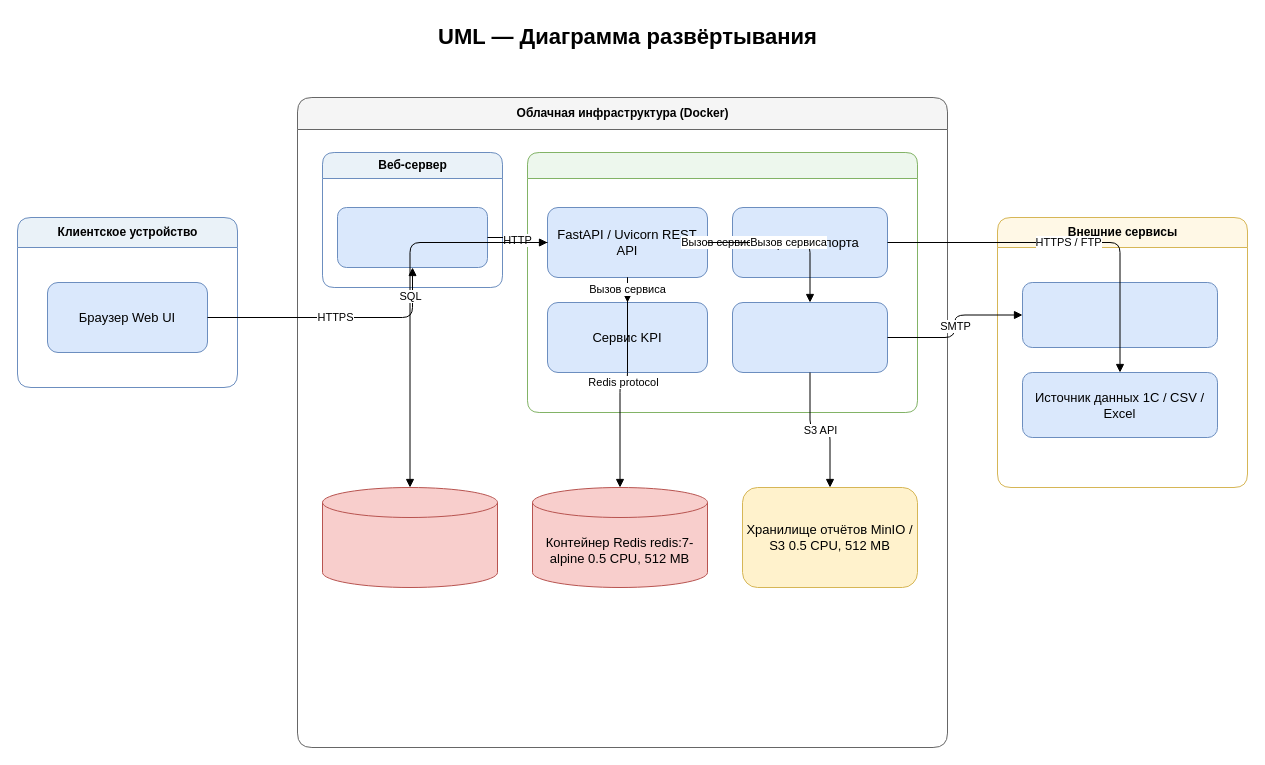
Image size: 1265x765. Some labels were removed from this diagram. The shapes that lost their labels are listed below. From the top down, each one's box as (x1, y1, x2, y2) in pixels, then its label:
(336, 206, 488, 268): Nginx Reverse proxy, TLS
(526, 152, 918, 412): Сервер приложений
(1022, 282, 1218, 348): SMTP Email-уведомления
(732, 302, 888, 372): Сервис отчётов
(322, 486, 498, 588): Контейнер PostgreSQL postgres:16 2 CPU, 2 GB
